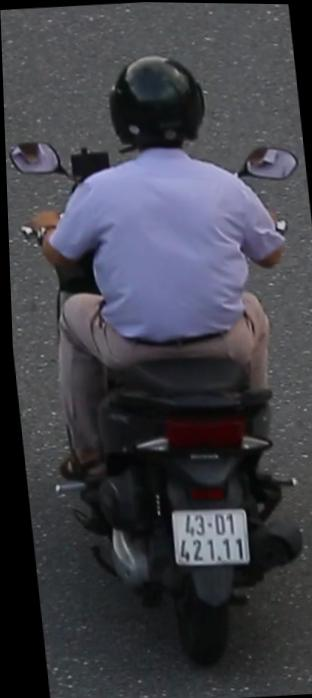LP: (162, 499, 250, 574)
helmet: (97, 45, 214, 169)
